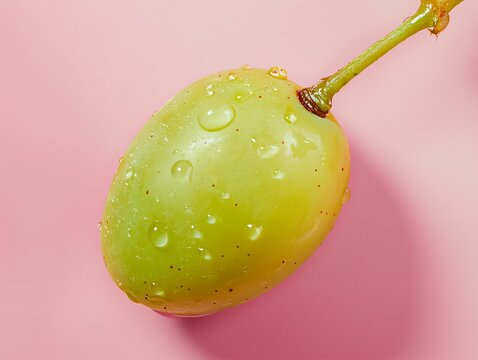grapes: (104, 29, 385, 340)
